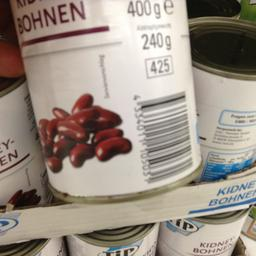beans: (10, 0, 204, 200)
